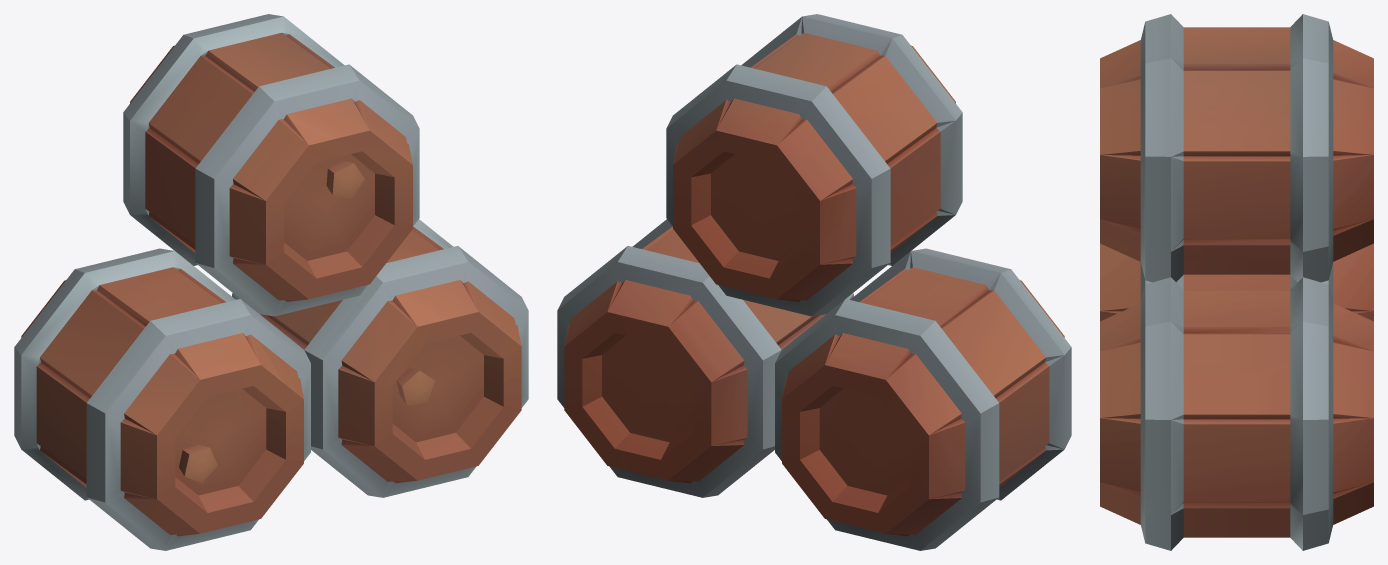
File: kay-barris.gltf
3 renders of one model, left to right at view 1: azimuth 30°, elevation 25°; view 2: azimuth 150°, elevation 25°; view 3: azimuth 270°, elevation 25°, orthographic.
Parts seen in each view (by area): view 1: barrel_small_stack; view 2: barrel_small_stack; view 3: barrel_small_stack.
Part boxes in pixels (x1,y1,x2,y2): barrel_small_stack: [14, 14, 528, 550]; barrel_small_stack: [557, 14, 1071, 550]; barrel_small_stack: [1100, 14, 1373, 550].
Bounding box in the file's own units: 1.2 × 1.15 × 0.65.
1 material, 1 textured.
